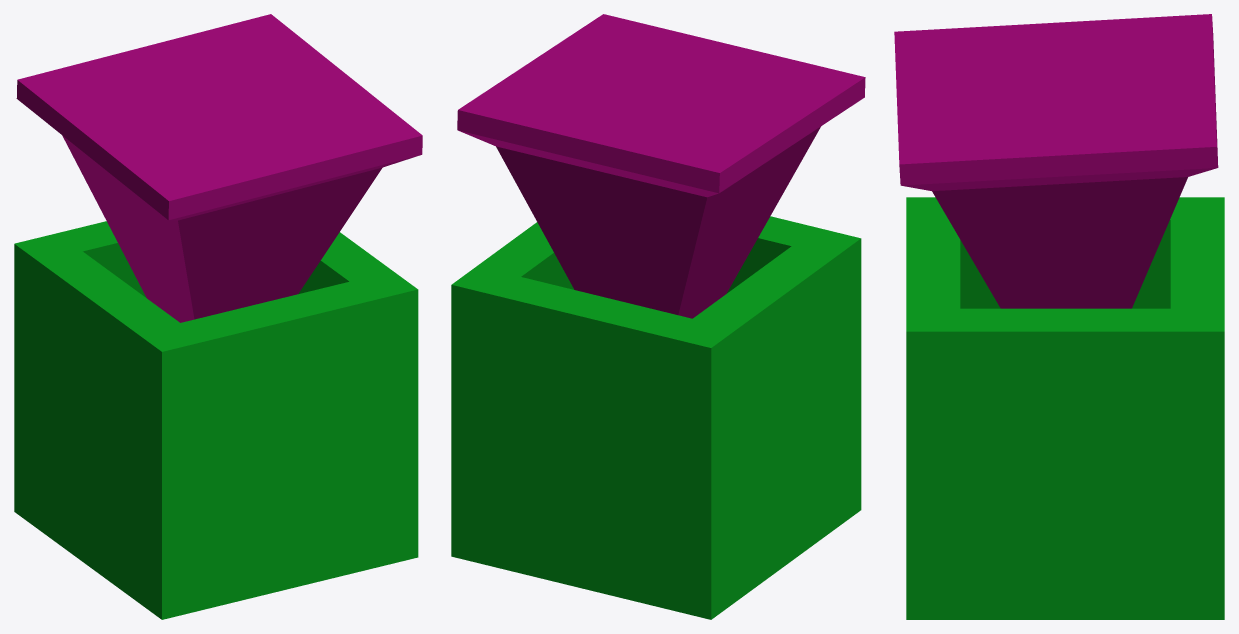
Rendered from AnimatedBox_000143.obj.
The picture shows the model from 3 angles, left to right: view 1: azimuth 30°, elevation 25°; view 2: azimuth 150°, elevation 25°; view 3: azimuth 270°, elevation 25°; orthographic projection. The views are drawn at different scales.
Parts seen in each view (by area): view 1: Cube, Cube.001; view 2: Cube, Cube.001; view 3: Cube, Cube.001.
Boxes of the visible parts, x1,y1,x2,y2 form: Cube: [14, 221, 418, 619]; Cube.001: [16, 14, 422, 322]; Cube: [451, 216, 861, 619]; Cube.001: [457, 14, 865, 318]; Cube: [906, 197, 1224, 619]; Cube.001: [894, 14, 1218, 308].
Size of the model in its own units: 2.03 by 3.27 by 2.08.
